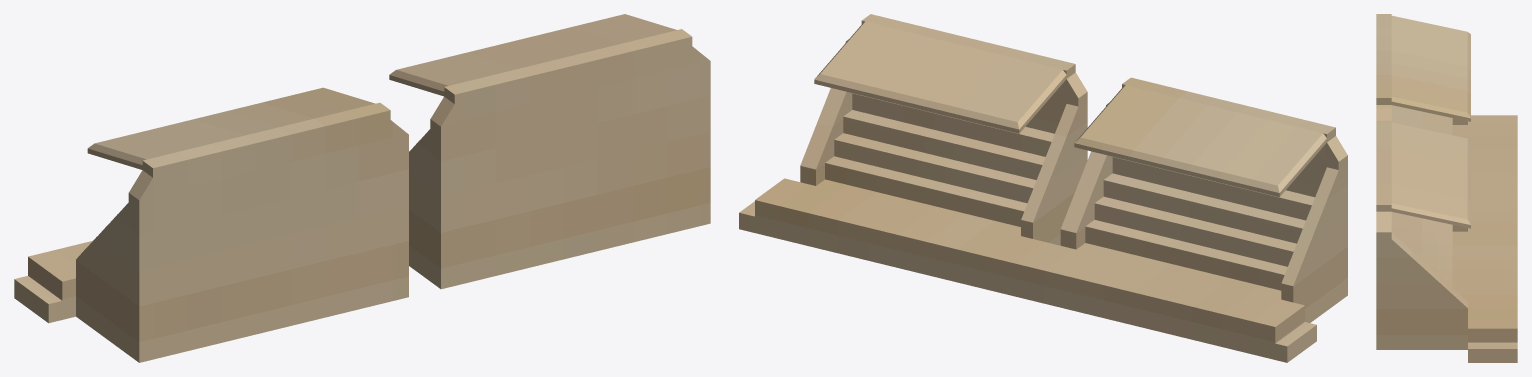
File: Bancas (1).glb
3 views of the same model, side by side, from view 1: azimuth 30°, elevation 25°; view 2: azimuth 150°, elevation 25°; view 3: azimuth 270°, elevation 25° (orthographic). The views are drawn at different scales.
Parts seen in each view (by area): view 1: Atras, Techo, Baranda, Piso; view 2: Escaleras, Techo, Piso, Baranda; view 3: Techo, Piso, Baranda, Escaleras.
Part boxes in pixels (x1,y1,x2,y2): Atras: (139,37,710,362); Techo: (87,14,691,199); Baranda: (76,119,440,362); Piso: (14,241,92,323); Escaleras: (816,79,1326,299); Techo: (814,14,1347,197); Piso: (739,178,1316,362); Baranda: (800,39,1347,322); Techo: (1376,14,1470,232); Piso: (1468,115,1517,362); Baranda: (1376,118,1467,349); Escaleras: (1391,105,1467,301).
Bounding box in the file's own units: 139 × 40 × 37.
Materials: 1 (1 with a texture image).
